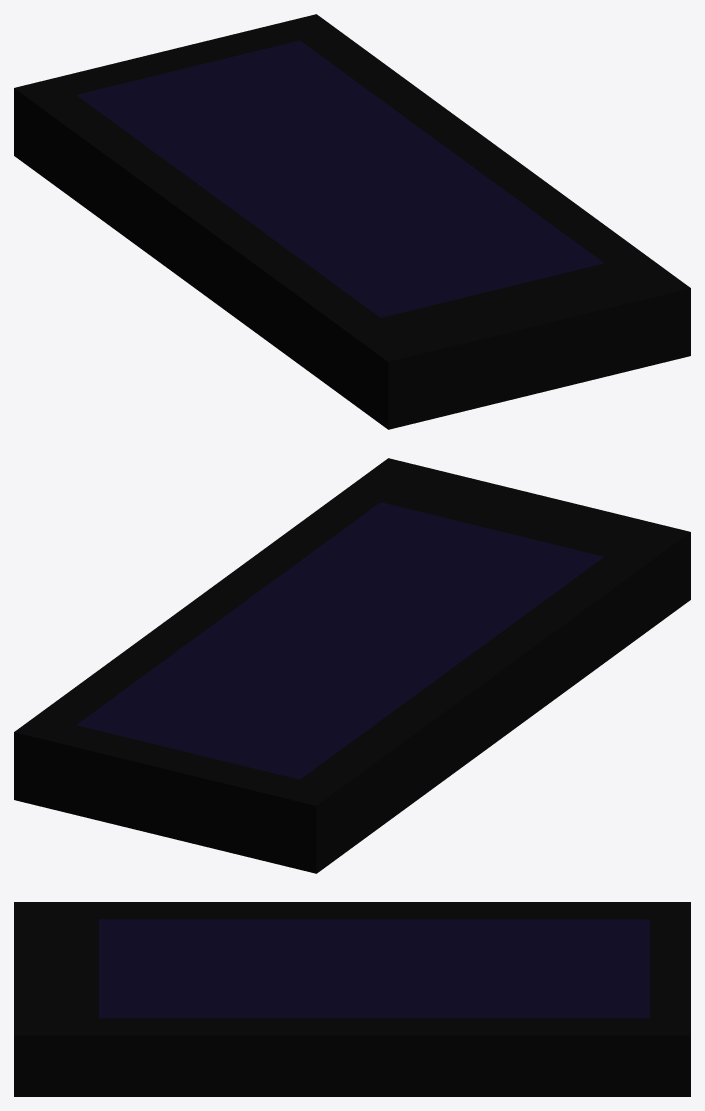
Rendered from phone.glb.
3 renders of one model, top to bottom at view 1: azimuth 30°, elevation 25°; view 2: azimuth 150°, elevation 25°; view 3: azimuth 270°, elevation 25°, orthographic. The views are drawn at different scales.
Visible parts, largest first — view 1: phone; view 2: phone; view 3: phone.
Part boxes in pixels (bbox=[...]): phone: bbox=[14, 14, 690, 429]; phone: bbox=[14, 458, 690, 873]; phone: bbox=[14, 902, 690, 1096].
Size of the model in its own units: 0.07 by 0.015 by 0.15.
